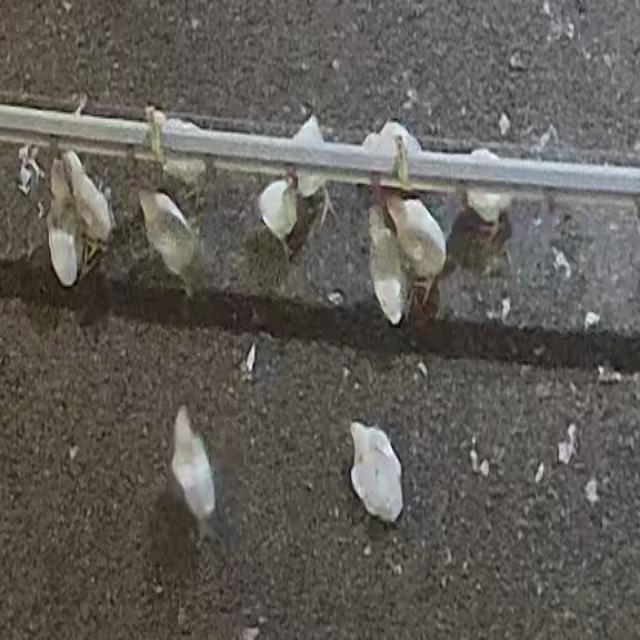chicken: (162, 409, 231, 532), (383, 190, 448, 316), (342, 415, 415, 524), (139, 190, 206, 300), (61, 148, 117, 254), (357, 206, 408, 320), (44, 155, 82, 288), (257, 171, 301, 261)
